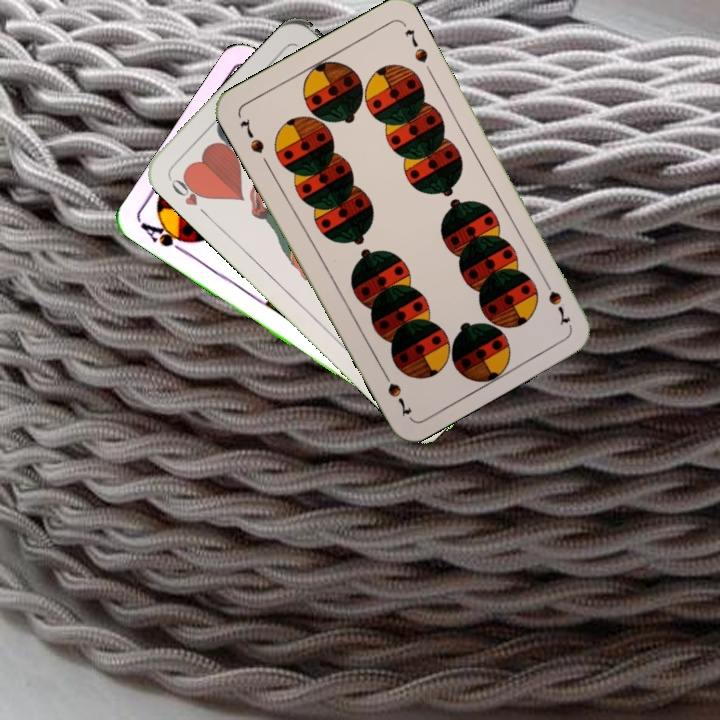HO: (165, 170, 212, 220)
S7: (539, 273, 573, 328), (236, 114, 267, 157)
SA: (137, 215, 196, 257)
